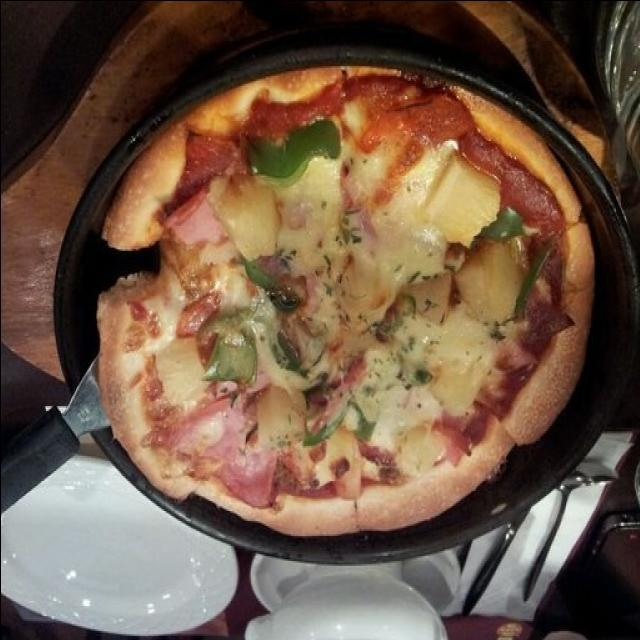pizza: (93, 62, 593, 536)
